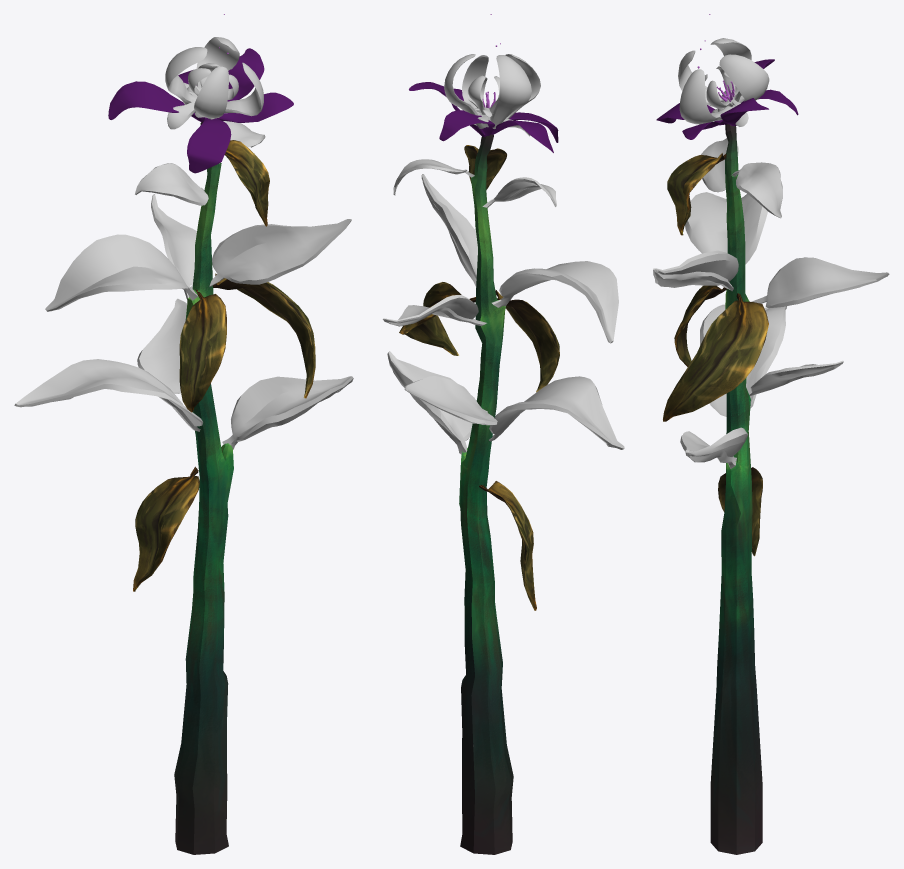
File: MDL_Flower_01.fbx
3 renders of one model, left to right at view 1: azimuth 30°, elevation 25°; view 2: azimuth 150°, elevation 25°; view 3: azimuth 270°, elevation 25°, orthographic. The views are drawn at different scales.
Parts seen in each view (by area): view 1: MDL_Leaf_Healthy_08.001, MDL_Leaf_Healthy_08.006, MDL_Leaf_Healthy_08.007, MDL_Flower_01.004, MDL_Flower_02.001, MDL_Leaf_Healthy_08.003, MDL_Leaf_Healthy_08.002, MDL_Leaf_Rotten_02, MDL_Leaf_Rotten_03, MDL_Leaf_Rotten_04, MDL_Leaf_Healthy_08.004, MDL_Leaf_Healthy_08.005 (+3 smaller); view 2: MDL_Leaf_Healthy_08.001, MDL_Leaf_Healthy_08.006, MDL_Flower_02.001, MDL_Leaf_Healthy_08.003, MDL_Flower_01.004, MDL_Leaf_Healthy_08.004, MDL_Leaf_Rotten_02, MDL_Leaf_Healthy_08.007, MDL_Leaf_Healthy_08.002, MDL_Leaf_Rotten_04, MDL_Leaf_Rotten_03, MDL_Leaf_Healthy_08.005 (+4 smaller); view 3: MDL_Leaf_Healthy_08.001, MDL_Leaf_Rotten_04, MDL_Flower_02.001, MDL_Leaf_Healthy_08.005, MDL_Leaf_Healthy_08.006, MDL_Leaf_Healthy_08.007, MDL_Leaf_Healthy_08.003, MDL_Leaf_Healthy_08.009, MDL_Leaf_Rotten_01, MDL_Flower_01.004, MDL_Leaf_Healthy_08.002, MDL_Leaf_Healthy_08.004 (+4 smaller).
Part boxes in pixels (box(x1,y1,x2,y2)): MDL_Leaf_Healthy_08.001: box(174, 121, 233, 854); MDL_Leaf_Healthy_08.006: box(45, 234, 197, 311); MDL_Leaf_Healthy_08.007: box(209, 219, 351, 286); MDL_Flower_01.004: box(108, 48, 293, 173); MDL_Flower_02.001: box(165, 37, 263, 129); MDL_Leaf_Healthy_08.003: box(14, 359, 202, 431); MDL_Leaf_Healthy_08.002: box(222, 376, 353, 449); MDL_Leaf_Rotten_02: box(179, 289, 226, 412); MDL_Leaf_Rotten_03: box(133, 466, 199, 591); MDL_Leaf_Rotten_04: box(213, 273, 315, 398); MDL_Leaf_Healthy_08.004: box(137, 298, 187, 393); MDL_Leaf_Healthy_08.005: box(151, 194, 196, 299); MDL_Leaf_Healthy_08.001: box(459, 134, 513, 854); MDL_Leaf_Healthy_08.006: box(492, 261, 618, 343); MDL_Flower_02.001: box(444, 54, 540, 136); MDL_Leaf_Healthy_08.003: box(489, 376, 624, 449); MDL_Flower_01.004: box(409, 82, 558, 152); MDL_Leaf_Healthy_08.004: box(404, 376, 497, 425); MDL_Leaf_Rotten_02: box(495, 290, 559, 392); MDL_Leaf_Healthy_08.007: box(421, 174, 477, 286); MDL_Leaf_Healthy_08.002: box(387, 351, 472, 454); MDL_Leaf_Rotten_04: box(399, 282, 475, 355); MDL_Leaf_Rotten_03: box(479, 481, 536, 610); MDL_Leaf_Healthy_08.005: box(382, 295, 486, 326); MDL_Leaf_Healthy_08.001: box(710, 124, 762, 854); MDL_Leaf_Rotten_04: box(663, 293, 768, 421); MDL_Flower_02.001: box(678, 38, 769, 126); MDL_Leaf_Healthy_08.005: box(751, 257, 889, 308); MDL_Leaf_Healthy_08.006: box(685, 192, 767, 264); MDL_Leaf_Healthy_08.007: box(653, 250, 738, 291); MDL_Leaf_Healthy_08.003: box(700, 304, 786, 416); MDL_Leaf_Healthy_08.009: box(731, 162, 782, 218); MDL_Leaf_Rotten_01: box(667, 153, 726, 235); MDL_Flower_01.004: box(656, 59, 798, 139); MDL_Leaf_Healthy_08.002: box(680, 427, 747, 468); MDL_Leaf_Healthy_08.004: box(749, 360, 843, 396).
Size of the model in its own units: 25.22 by 69.48 by 17.87.
